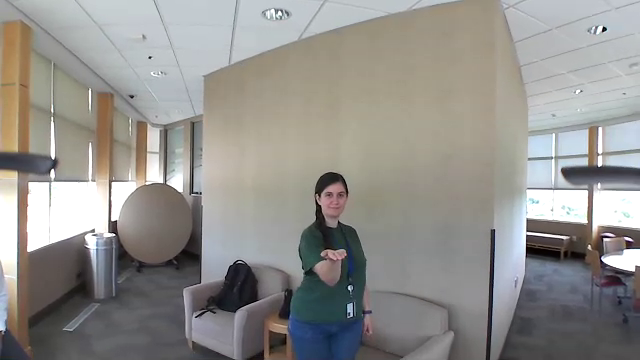land: (319, 248, 351, 264)
